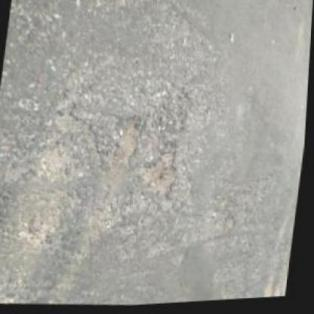Hueco: (138, 153, 182, 202), (117, 119, 146, 165)
